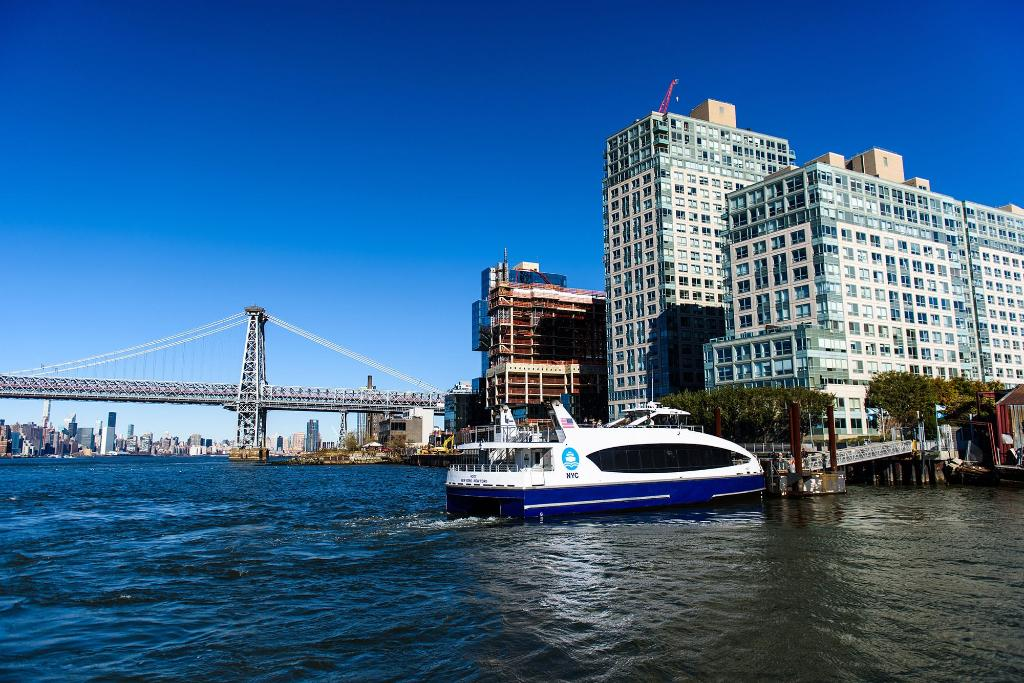PassengerShip: (440, 382, 784, 526)
